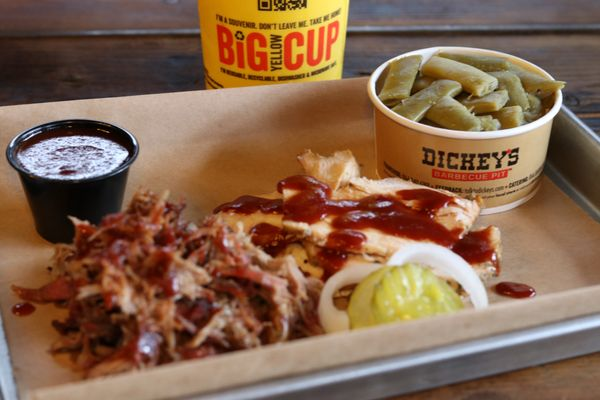pizza: (5, 118, 139, 244)
sushi: (368, 45, 565, 215)
